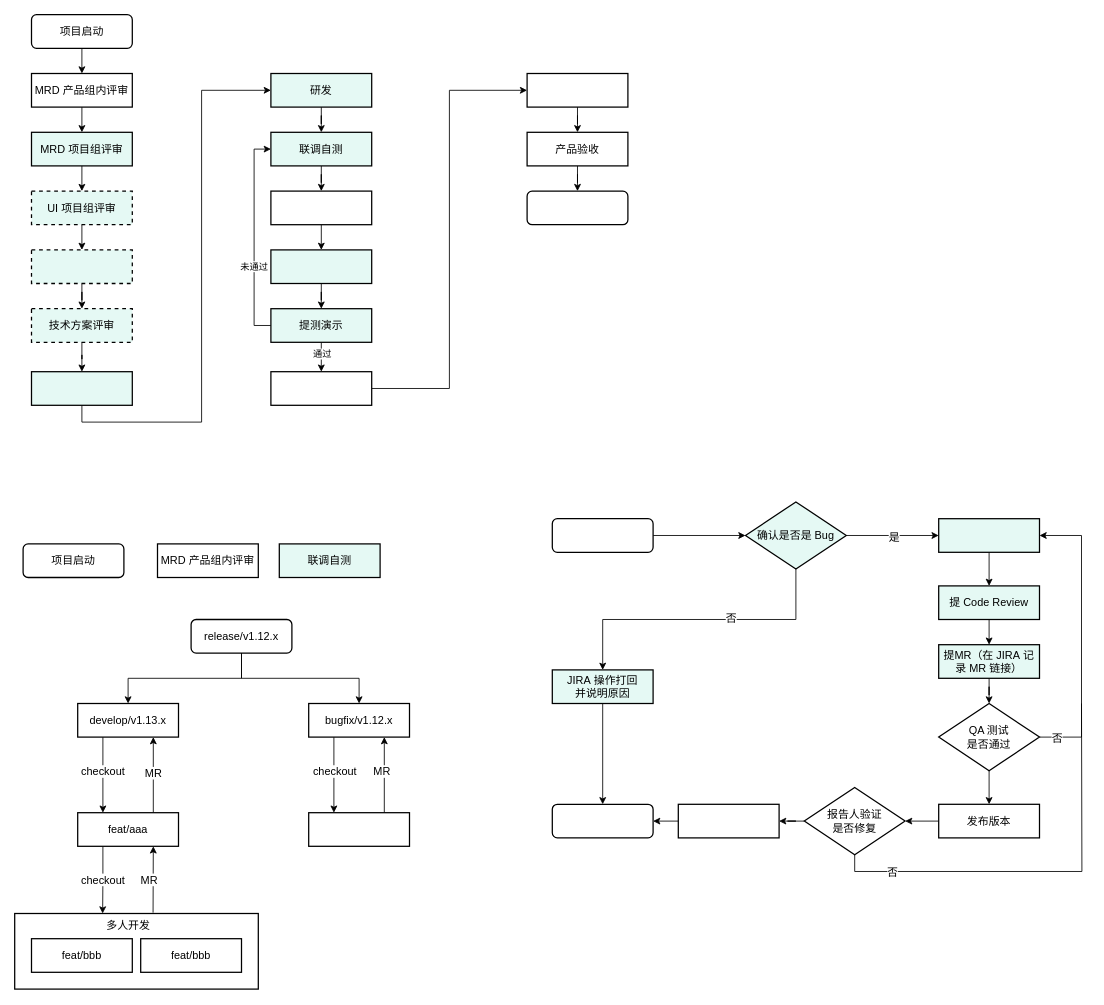
Some shapes in this 1104 by 1005 pixel diagram are drawn without their labels. The shapes that lost their labels are listed below. From the top down, each one's box as (x1, y1, x2, y2) in pixels, then its label:
(526, 72, 628, 107): 设计走查
(270, 190, 372, 225): 测试 Case 评审
(526, 190, 628, 225): 项目结束
(30, 249, 133, 284): 编写技术方案
(270, 249, 372, 284): 准入 Case 自测
(30, 371, 133, 406): 研发排期
(270, 371, 372, 406): QA 测试
(551, 518, 653, 553): 收到问题
(938, 518, 1040, 553): RD 修复问题
(308, 812, 410, 847): bugfix/1.12/scb-xxxx
(551, 803, 653, 838): 结束
(677, 803, 779, 838): QA/报告人关闭 JIRA
